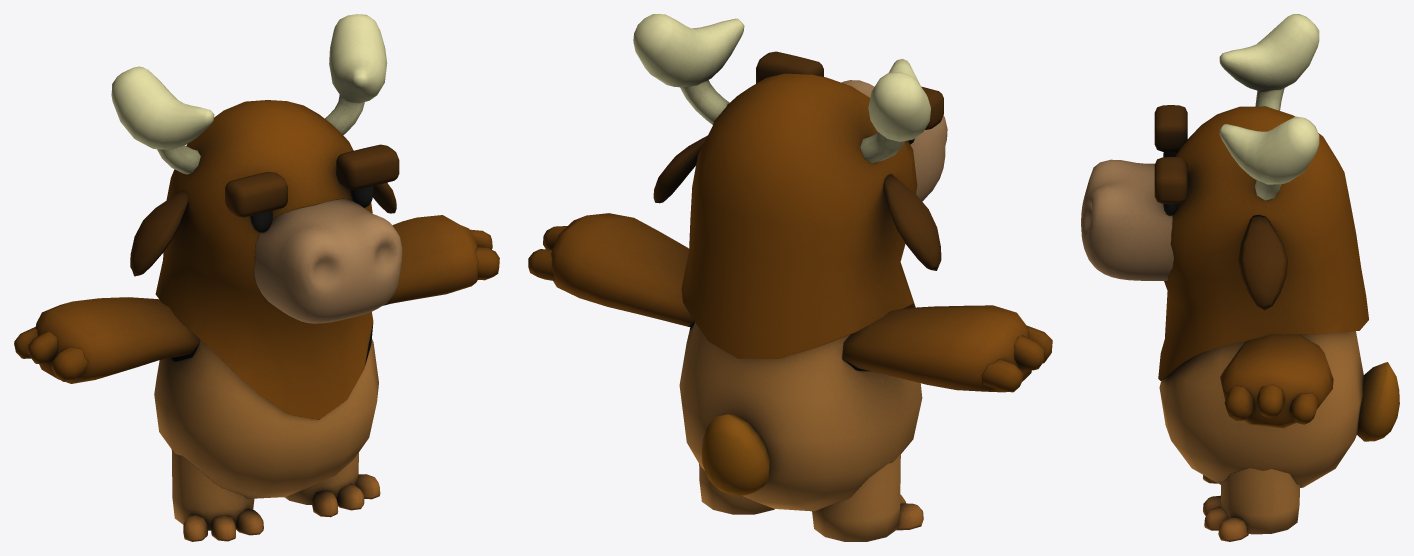
File: Alce Personaje.fbx
The picture shows the model from 3 angles, left to right: view 1: azimuth 30°, elevation 25°; view 2: azimuth 150°, elevation 25°; view 3: azimuth 270°, elevation 25°; orthographic projection. The views are drawn at different scales.
Parts seen in each view (by area): view 1: Plane.004; view 2: Plane.004; view 3: Plane.004.
Boxes of the visible parts, x1,y1,x2,y2 form: Plane.004: [14, 14, 499, 541]; Plane.004: [528, 14, 1052, 541]; Plane.004: [1081, 14, 1399, 541].
Bounding box in the file's own units: 119 × 110 × 74.28.
